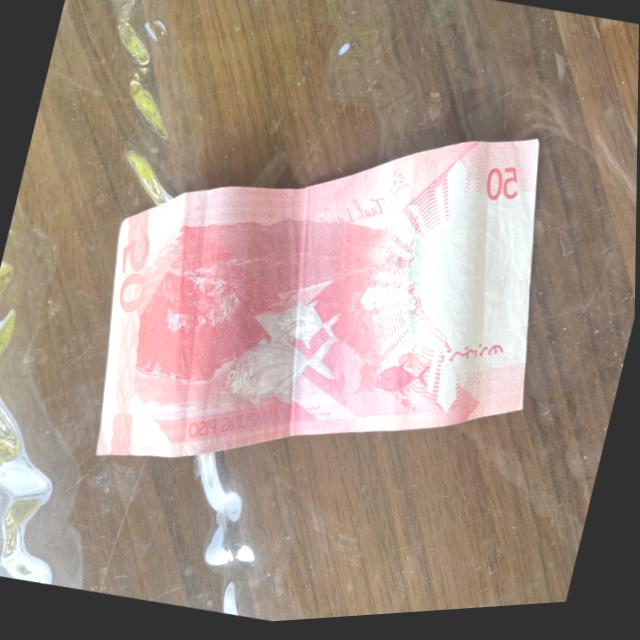50_maliputo: (210, 278, 357, 427)
50_maliputo_watermark: (369, 335, 444, 415)
value_watermark: (482, 269, 526, 331)
watermark: (407, 188, 535, 370)
